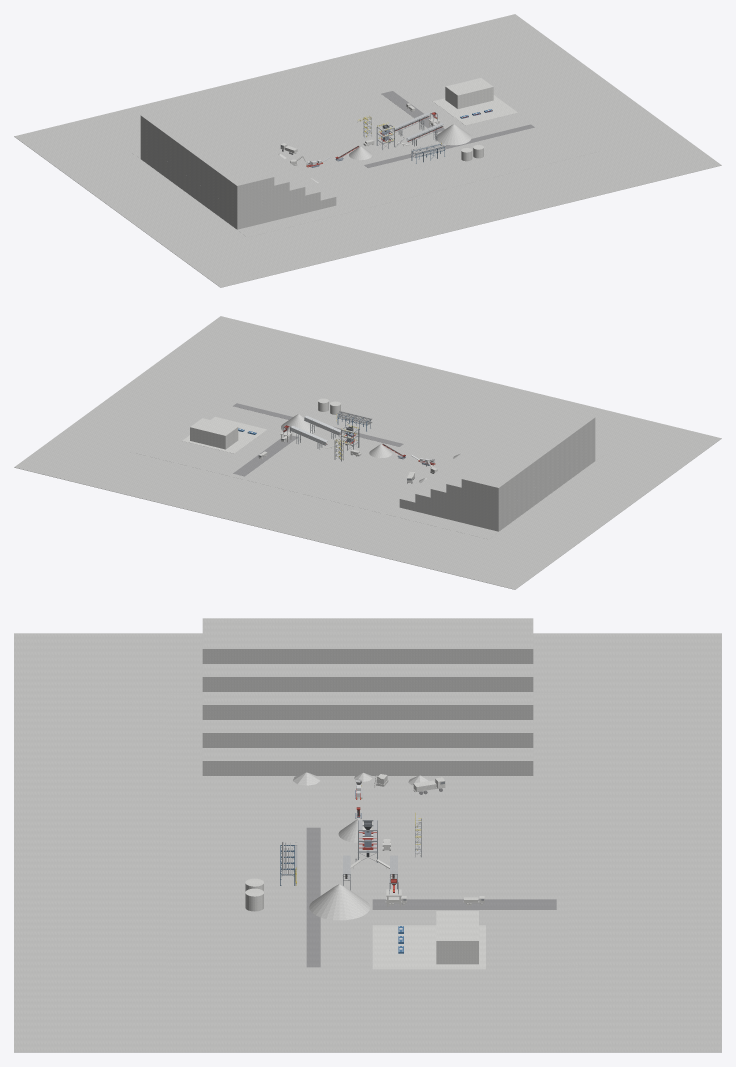
File: plant-mining.glb
3 renders of one model, top to bottom at view 1: azimuth 30°, elevation 25°; view 2: azimuth 150°, elevation 25°; view 3: azimuth 270°, elevation 25°, orthographic. The views are drawn at different scales.
Parts seen in each view (by area): view 1: ENV_Grass, ENV_Ground, ENV_Bench.004, ENV_Bench.001, ENV_Bench.002, ENV_Bench, ENV_Bench.003, ENV_Yard, ENV_Workshop, ENV_PlantRoad, ENV_Stockpile, ENV_TruckLane; view 2: ENV_Grass, ENV_Ground, ENV_Bench.004, ENV_Bench.001, ENV_Bench.003, ENV_Bench, ENV_Bench.002, ENV_Workshop, ENV_Yard, ENV_TruckLane, ENV_PlantRoad; view 3: ENV_Grass, ENV_Ground, ENV_Bench.004, ENV_Bench.001, ENV_Bench.002, ENV_Bench.003, ENV_Bench, ENV_Yard, ENV_Workshop, ENV_PlantRoad, ENV_TruckLane, ENV_Stockpile.
Part boxes in pixels (bbox=[...]): ENV_Grass: bbox=[14, 14, 721, 287]; ENV_Ground: bbox=[131, 64, 604, 237]; ENV_Bench.004: bbox=[140, 106, 274, 229]; ENV_Bench.001: bbox=[140, 121, 320, 229]; ENV_Bench.002: bbox=[203, 116, 305, 228]; ENV_Bench: bbox=[233, 126, 336, 229]; ENV_Bench.003: bbox=[187, 111, 289, 225]; ENV_Yard: bbox=[433, 95, 517, 125]; ENV_Workshop: bbox=[445, 78, 493, 108]; ENV_PlantRoad: bbox=[364, 124, 534, 167]; ENV_Stockpile: bbox=[436, 124, 471, 145]; ENV_TruckLane: bbox=[381, 91, 445, 132]; ENV_Grass: bbox=[14, 316, 721, 589]; ENV_Ground: bbox=[131, 366, 604, 539]; ENV_Bench.004: bbox=[461, 408, 595, 530]; ENV_Bench.001: bbox=[415, 423, 595, 531]; ENV_Bench.003: bbox=[446, 413, 548, 530]; ENV_Bench: bbox=[399, 428, 502, 531]; ENV_Bench.002: bbox=[430, 418, 532, 530]; ENV_Workshop: bbox=[190, 418, 238, 449]; ENV_Yard: bbox=[182, 416, 267, 453]; ENV_TruckLane: bbox=[233, 435, 297, 476]; ENV_PlantRoad: bbox=[233, 403, 403, 446]; ENV_Grass: bbox=[14, 633, 721, 1052]; ENV_Ground: bbox=[167, 693, 568, 992]; ENV_Bench.004: bbox=[202, 618, 533, 663]; ENV_Bench.001: bbox=[202, 720, 533, 747]; ENV_Bench.002: bbox=[202, 692, 533, 719]; ENV_Bench.003: bbox=[202, 664, 533, 691]; ENV_Bench: bbox=[202, 748, 533, 775]; ENV_Yard: bbox=[372, 925, 485, 969]; ENV_Workshop: bbox=[436, 911, 478, 964]; ENV_PlantRoad: bbox=[306, 827, 320, 967]; ENV_TruckLane: bbox=[372, 899, 556, 909]; ENV_Stockpile: bbox=[309, 884, 370, 920].
Bounding box in the file's own units: 420 × 35.29 × 300.
Materials: 56 (53 with a texture image).
